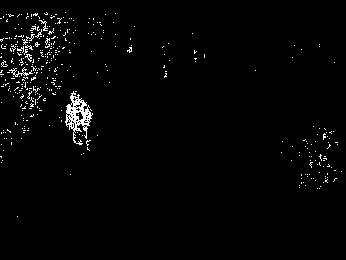person: (64, 89, 93, 153)
